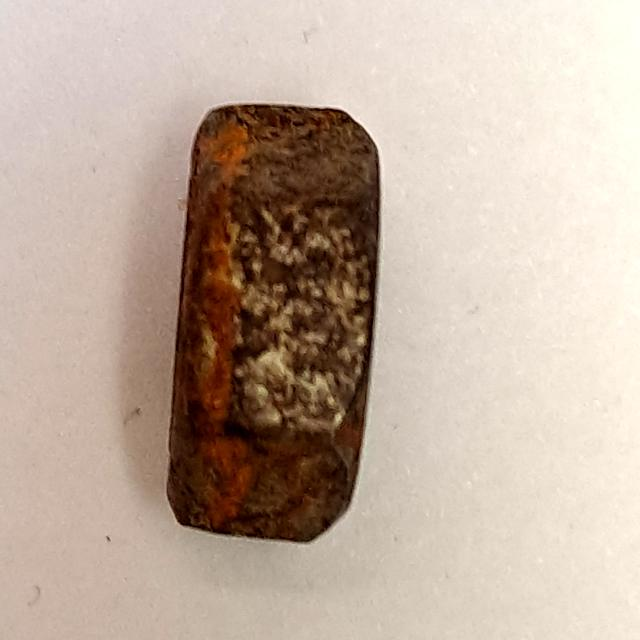Side_Rust: (115, 90, 399, 558)
